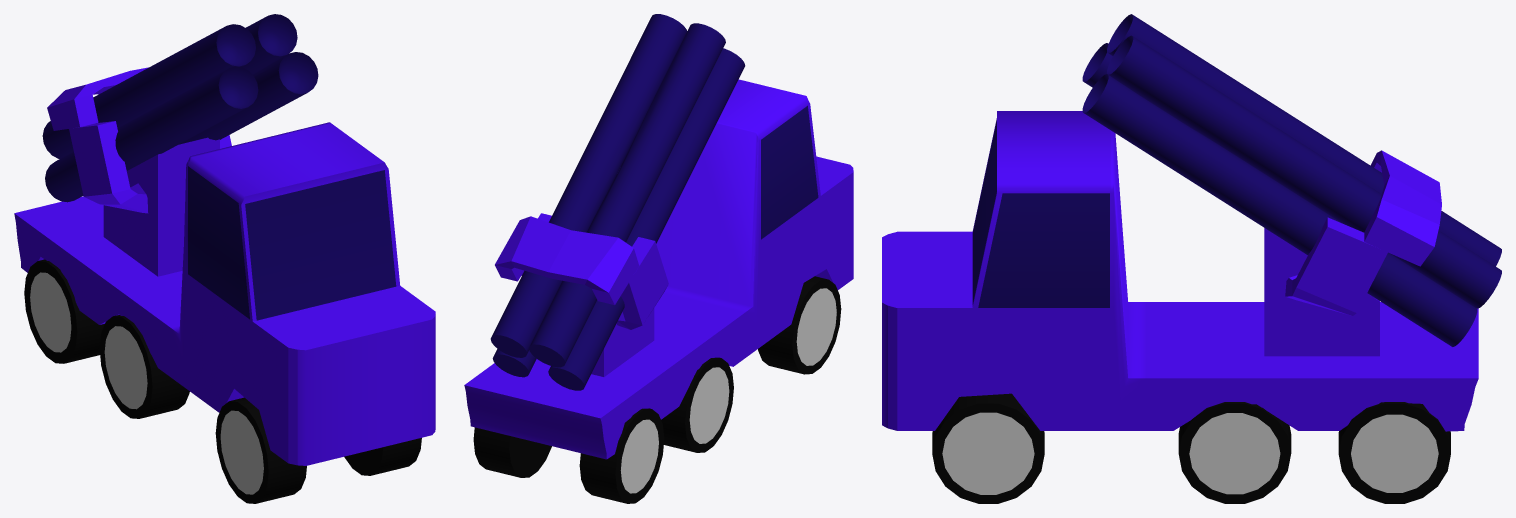
Rendered from antiaereo.FBX.
3 renders of one model, left to right at view 1: azimuth 30°, elevation 25°; view 2: azimuth 150°, elevation 25°; view 3: azimuth 270°, elevation 25°, orthographic. The views are drawn at different scales.
Parts seen in each view (by area): view 1: Box001, Cylinder001, Cylinder002, Box002, Box003; view 2: Box001, Cylinder001, Cylinder002, Box003, Box002; view 3: Box001, Cylinder001, Cylinder002, Box003, Box002.
Part boxes in pixels (bbox=[...]): Box001: bbox=[14, 122, 435, 465]; Cylinder001: bbox=[42, 14, 318, 202]; Cylinder002: bbox=[24, 259, 421, 503]; Box002: bbox=[103, 137, 219, 276]; Box003: bbox=[47, 67, 231, 213]; Box001: bbox=[464, 79, 853, 459]; Cylinder001: bbox=[490, 14, 745, 390]; Cylinder002: bbox=[473, 276, 841, 503]; Box003: bbox=[495, 213, 668, 329]; Box002: bbox=[591, 308, 654, 376]; Box001: bbox=[882, 111, 1478, 431]; Cylinder001: bbox=[1082, 14, 1501, 346]; Cylinder002: bbox=[932, 393, 1450, 503]; Box003: bbox=[1285, 150, 1441, 315]; Box002: bbox=[1264, 228, 1379, 356].
Bounding box in the file's own units: 10.41 × 26.66 × 34.29.
